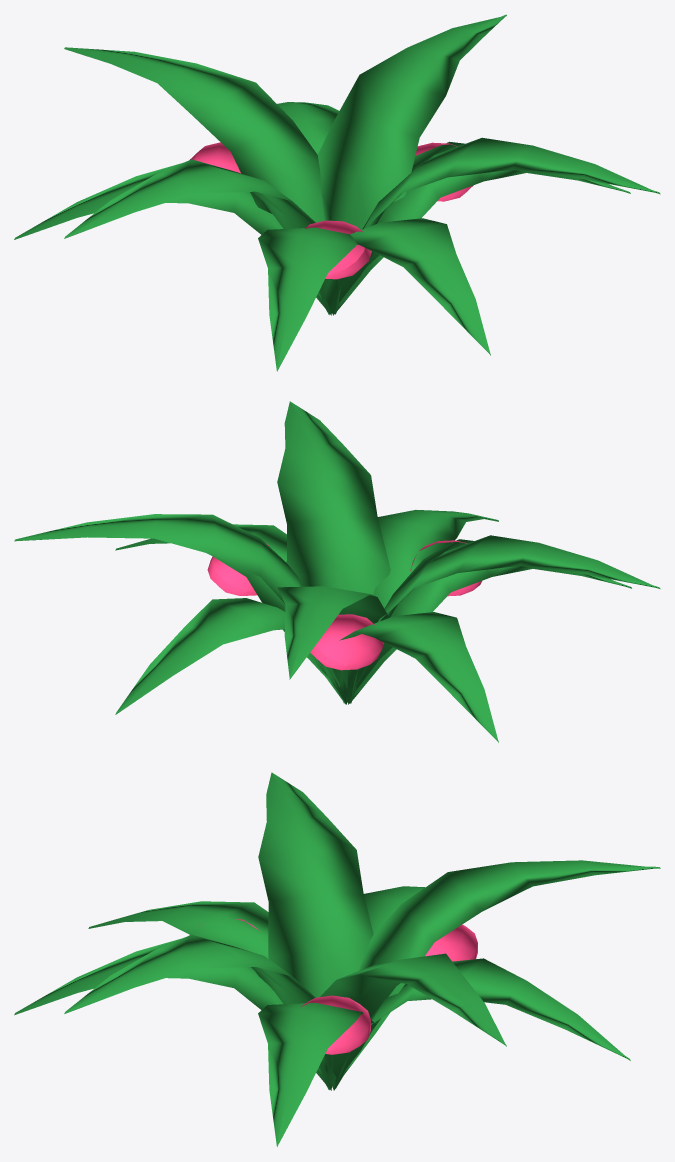
Rendered from fern_bush.glb.
3 renders of one model, top to bottom at view 1: azimuth 30°, elevation 25°; view 2: azimuth 150°, elevation 25°; view 3: azimuth 270°, elevation 25°, orthographic. The views are drawn at different scales.
Parts seen in each view (by area): view 1: FernBush; view 2: FernBush; view 3: FernBush.
Part boxes in pixels (x1,y1,x2,y2): FernBush: [14, 14, 660, 371]; FernBush: [14, 401, 660, 742]; FernBush: [14, 772, 660, 1146].
Bounding box in the file's own units: 1.93 × 0.6135 × 1.9.
